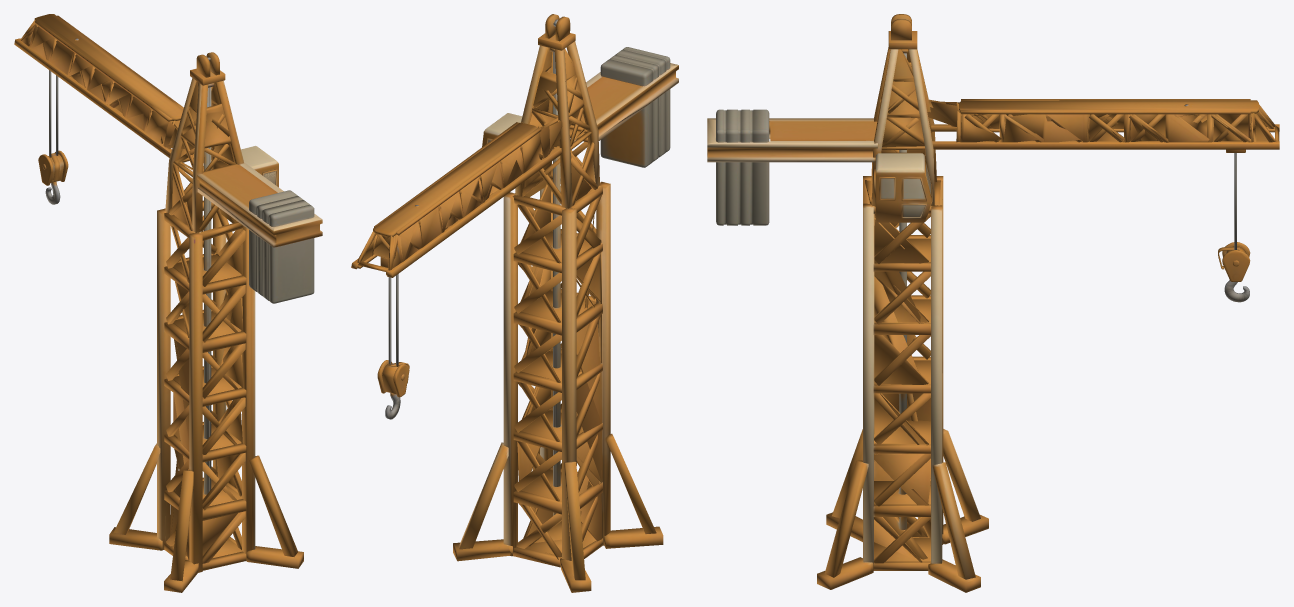
File: wl_crane_lattice.glb
The picture shows the model from 3 angles, left to right: view 1: azimuth 30°, elevation 25°; view 2: azimuth 150°, elevation 25°; view 3: azimuth 270°, elevation 25°; orthographic projection. The views are drawn at different scales.
Visible parts, largest first — view 1: wl_crane_lattice; view 2: wl_crane_lattice; view 3: wl_crane_lattice.
Boxes of the visible parts, <box> form: wl_crane_lattice: <box>14,14,322,592</box>; wl_crane_lattice: <box>351,14,678,592</box>; wl_crane_lattice: <box>707,14,1279,592</box>.
Bounding box in the file's own units: 0.2935 × 0.9995 × 0.9595.
1 material, 1 textured.
